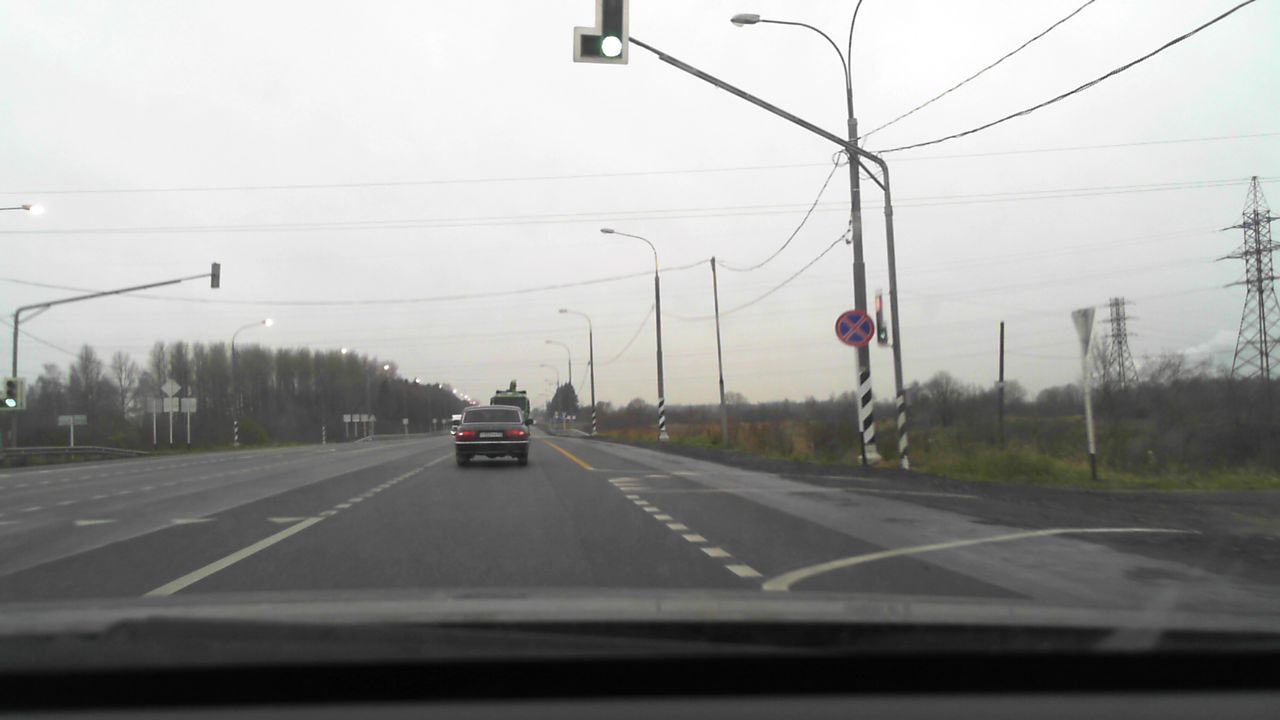No Parking: (835, 309, 875, 348)
